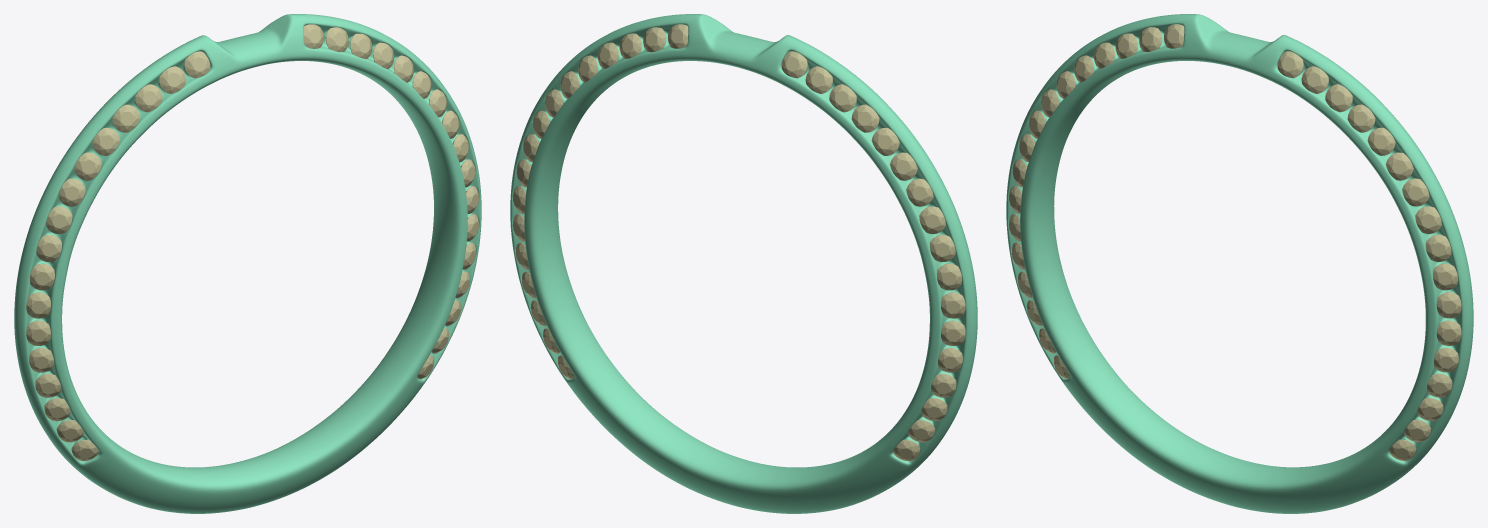
3 renders of one model, left to right at view 1: azimuth 30°, elevation 25°; view 2: azimuth 150°, elevation 25°; view 3: azimuth 330°, elevation 25°, orthographic.
Visible parts, largest first — view 1: Metal02, Diamond_Gem.057, Diamond_Gem.056, Diamond_Gem.054, Diamond_Gem.055, Diamond_Gem.058, Diamond_Gem.053, Diamond_Gem.052, Diamond_Gem.059, Diamond_Gem.060, Diamond_Gem.061, Diamond_Gem.051 (+2 smaller); view 2: Metal02, Diamond_Gem.044, Diamond_Gem.045, Diamond_Gem.047, Diamond_Gem.043, Diamond_Gem.046, Diamond_Gem.048, Diamond_Gem.042, Diamond_Gem.049, Diamond_Gem.041, Diamond_Gem.040, Diamond_Gem.050 (+2 smaller); view 3: Metal02, Diamond_Gem.010, Diamond_Gem.011, Diamond_Gem.012, Diamond_Gem.013, Diamond_Gem.009, Diamond_Gem.014, Diamond_Gem.008, Diamond_Gem.015, Diamond_Gem.007, Diamond_Gem.006, Diamond_Gem.016 (+2 smaller).
Boxes of the visible parts, bbox=[...] form: Metal02: bbox=[14, 14, 481, 513]; Diamond_Gem.057: bbox=[58, 178, 85, 206]; Diamond_Gem.056: bbox=[74, 152, 101, 180]; Diamond_Gem.054: bbox=[112, 104, 140, 132]; Diamond_Gem.055: bbox=[92, 127, 120, 155]; Diamond_Gem.058: bbox=[46, 206, 72, 233]; Diamond_Gem.053: bbox=[135, 84, 162, 112]; Diamond_Gem.052: bbox=[159, 66, 186, 93]; Diamond_Gem.059: bbox=[36, 235, 61, 261]; Diamond_Gem.060: bbox=[30, 263, 54, 290]; Diamond_Gem.061: bbox=[26, 292, 50, 318]; Diamond_Gem.051: bbox=[184, 51, 210, 78]; Metal02: bbox=[510, 14, 977, 513]; Diamond_Gem.044: bbox=[906, 178, 933, 206]; Diamond_Gem.045: bbox=[890, 152, 917, 180]; Diamond_Gem.047: bbox=[851, 104, 879, 132]; Diamond_Gem.043: bbox=[919, 206, 945, 233]; Diamond_Gem.046: bbox=[871, 127, 899, 155]; Diamond_Gem.048: bbox=[829, 84, 856, 112]; Diamond_Gem.042: bbox=[930, 235, 955, 261]; Diamond_Gem.049: bbox=[805, 66, 832, 93]; Diamond_Gem.041: bbox=[937, 263, 961, 290]; Diamond_Gem.040: bbox=[941, 292, 965, 318]; Diamond_Gem.050: bbox=[781, 51, 807, 78]; Metal02: bbox=[1006, 14, 1473, 513]; Diamond_Gem.010: bbox=[1402, 178, 1429, 206]; Diamond_Gem.011: bbox=[1386, 152, 1413, 180]; Diamond_Gem.012: bbox=[1367, 127, 1395, 155]; Diamond_Gem.013: bbox=[1347, 104, 1375, 132]; Diamond_Gem.009: bbox=[1415, 206, 1441, 233]; Diamond_Gem.014: bbox=[1325, 84, 1352, 112]; Diamond_Gem.008: bbox=[1425, 234, 1451, 261]; Diamond_Gem.015: bbox=[1301, 66, 1328, 93]; Diamond_Gem.007: bbox=[1433, 263, 1457, 290]; Diamond_Gem.006: bbox=[1436, 292, 1461, 318]; Diamond_Gem.016: bbox=[1277, 51, 1303, 78].
Size of the model in its own units: 20.9 by 20.7 by 1.99.
